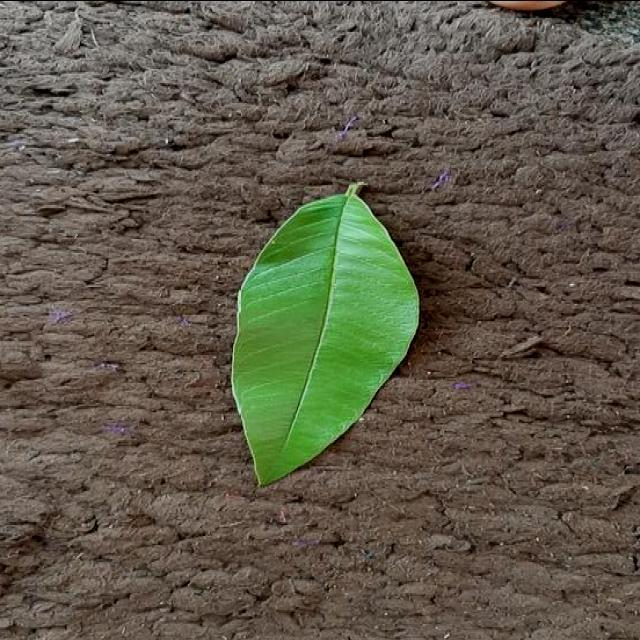leaf: (230, 180, 420, 487)
